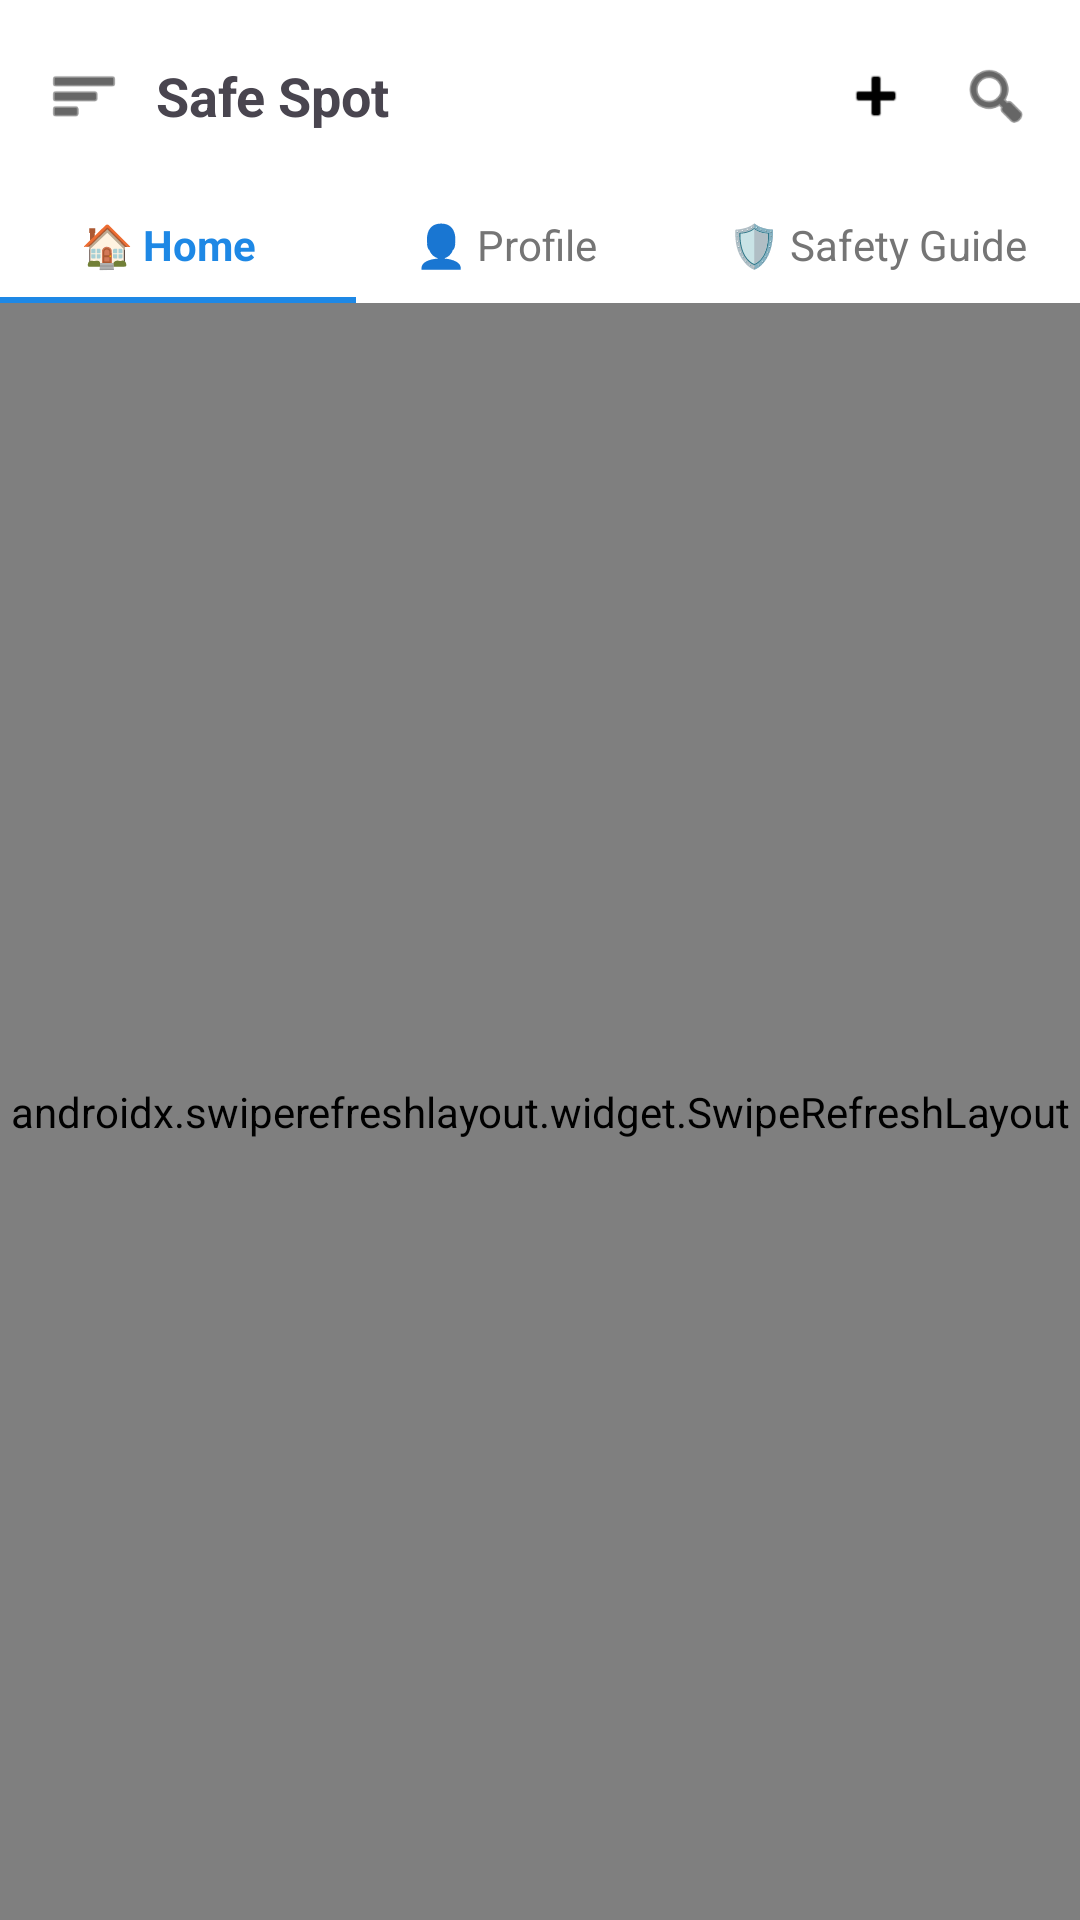

Screen size 1080x1920. Icon name, then its center in pixels as (x,y):
add: (876,96)
search: (996,96)
sort by size: (84,96)
